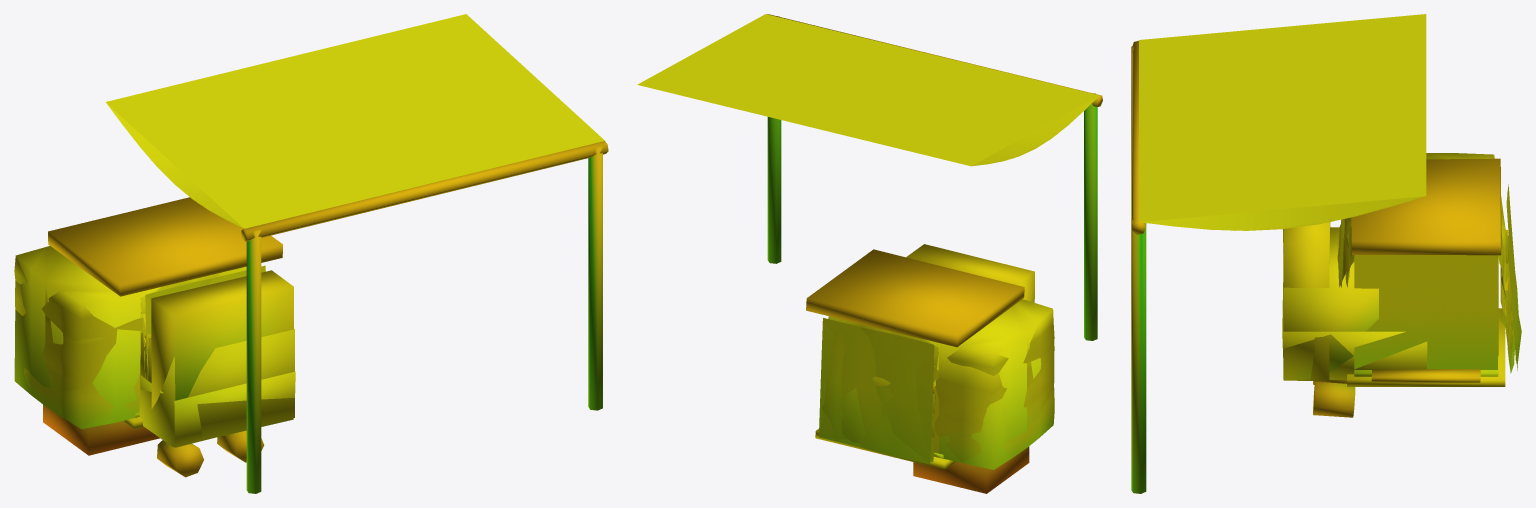
Rendered from town_kit.glb.
The picture shows the model from 3 angles, left to right: view 1: azimuth 30°, elevation 25°; view 2: azimuth 150°, elevation 25°; view 3: azimuth 270°, elevation 25°; orthographic projection. The views are drawn at different scales.
Visible parts, largest first — view 1: awning_l2, steps, awning, doorframe, corner, corner_l2, corner_l1, hatch, parapet0, awning_l1; view 2: awning_l2, doorframe, corner, awning, corner_l2, foot1_l1, foot0_l1, corner_l1, steps, foot0, hatch, foot0_l2 (+2 smaller); view 3: awning_l2, window0, steps, doorframe, awning, awning_l1, window0_l1, parapet0, hatch, window1, foot0, foot1_l1 (+1 smaller).
Part boxes in pixels (left/top/right/bottom): awning_l2: left=106, top=14, right=604, bottom=228; steps: left=139, top=270, right=295, bottom=447; awning: left=108, top=105, right=608, bottom=493; doorframe: left=48, top=197, right=282, bottom=417; corner: left=14, top=246, right=142, bottom=428; corner_l2: left=14, top=256, right=157, bottom=422; corner_l1: left=15, top=280, right=160, bottom=428; hatch: left=43, top=404, right=159, bottom=455; parapet0: left=157, top=430, right=264, bottom=477; awning_l1: left=106, top=103, right=243, bottom=228; awning_l2: left=637, top=14, right=1099, bottom=166; doorframe: left=806, top=249, right=1024, bottom=458; corner: left=934, top=299, right=1054, bottom=462; awning: left=767, top=14, right=1102, bottom=340; corner_l2: left=925, top=322, right=1041, bottom=469; foot1_l1: left=819, top=318, right=929, bottom=464; foot0_l1: left=860, top=327, right=934, bottom=463; corner_l1: left=939, top=333, right=1054, bottom=462; steps: left=906, top=244, right=1034, bottom=302; foot0: left=822, top=323, right=932, bottom=451; hatch: left=913, top=446, right=1029, bottom=493; foot0_l2: left=819, top=318, right=934, bottom=463; awning_l2: left=1139, top=14, right=1426, bottom=221; window0: left=1347, top=255, right=1505, bottom=386; steps: left=1282, top=222, right=1427, bottom=380; doorframe: left=1351, top=158, right=1501, bottom=376; awning: left=1131, top=40, right=1422, bottom=493; awning_l1: left=1139, top=196, right=1424, bottom=230; window0_l1: left=1354, top=255, right=1497, bottom=369; parapet0: left=1313, top=257, right=1498, bottom=417; hatch: left=1371, top=369, right=1480, bottom=382; window1: left=1347, top=327, right=1505, bottom=386; foot0: left=1338, top=190, right=1521, bottom=367; foot1_l1: left=1338, top=184, right=1517, bottom=370.
Size of the model in its own units: 3.5 by 2.73 by 2.72.
